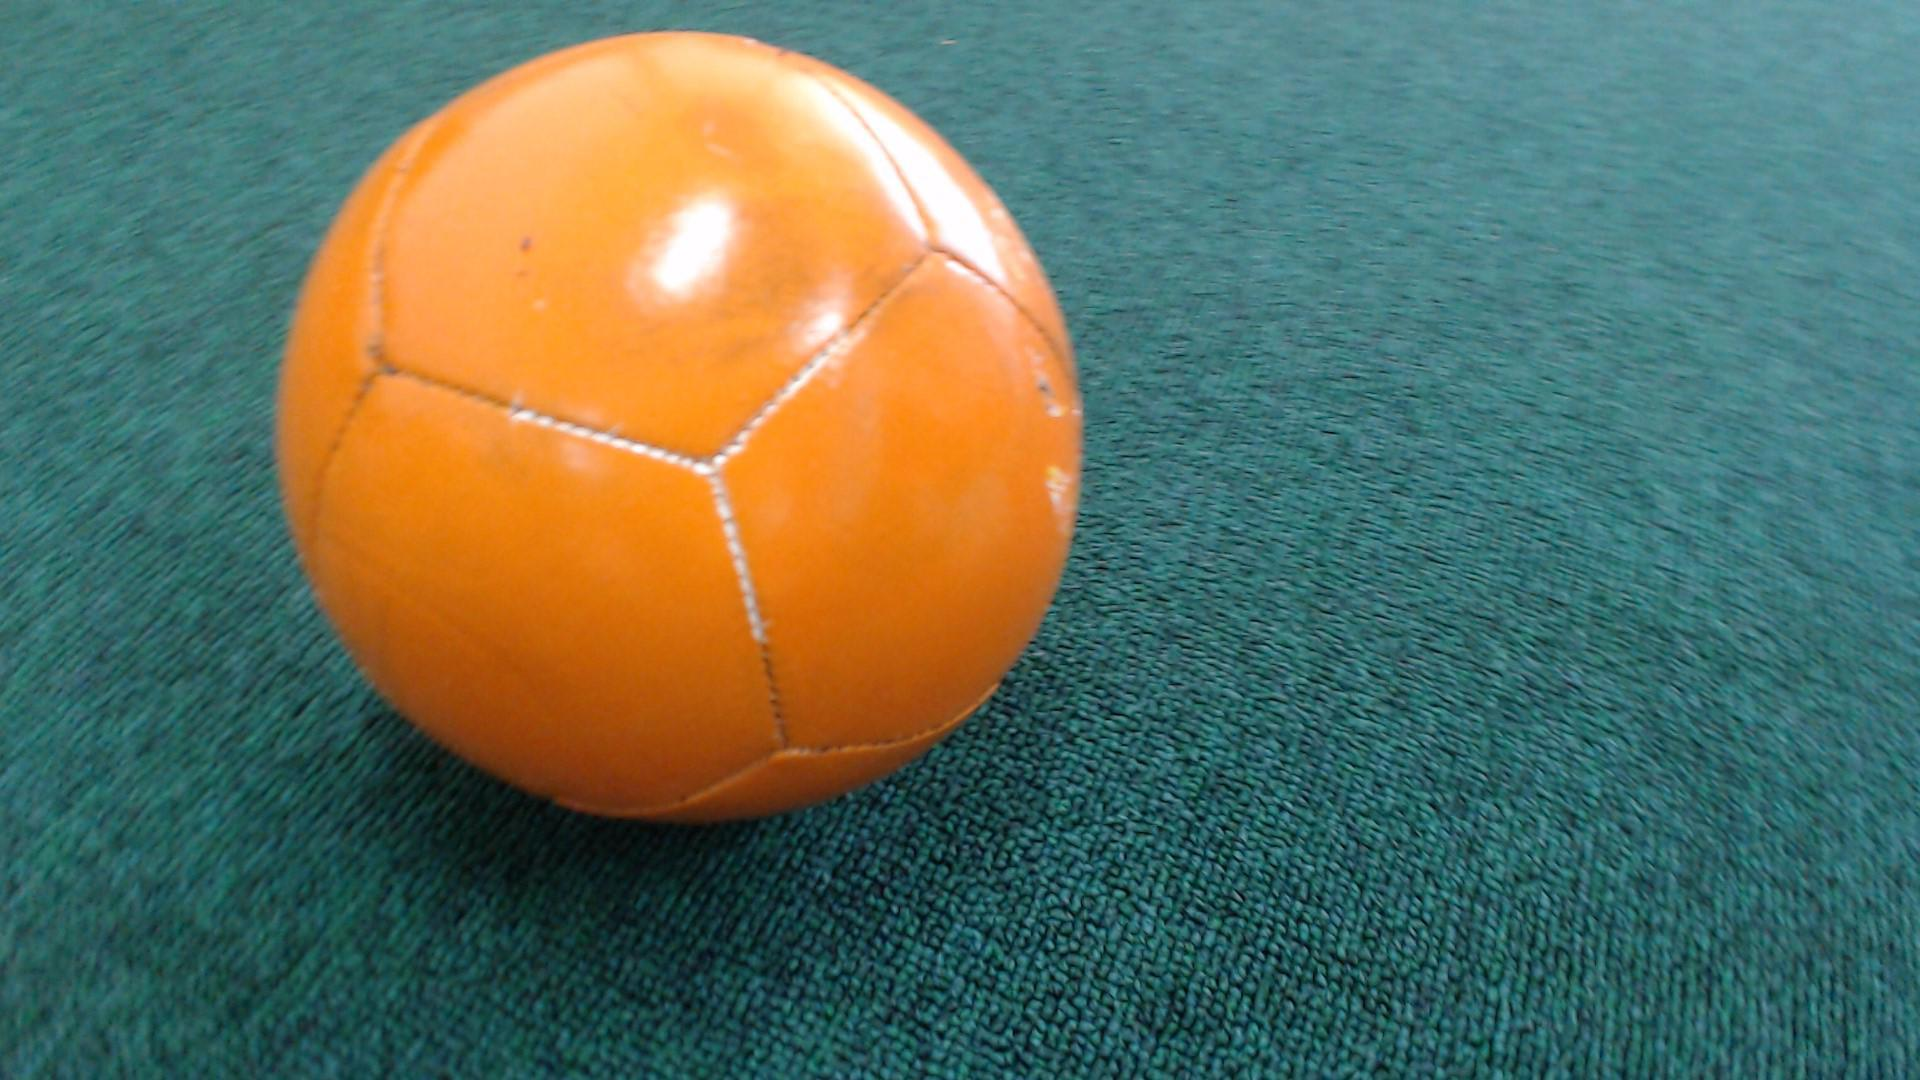bola: (261, 0, 1112, 881)
